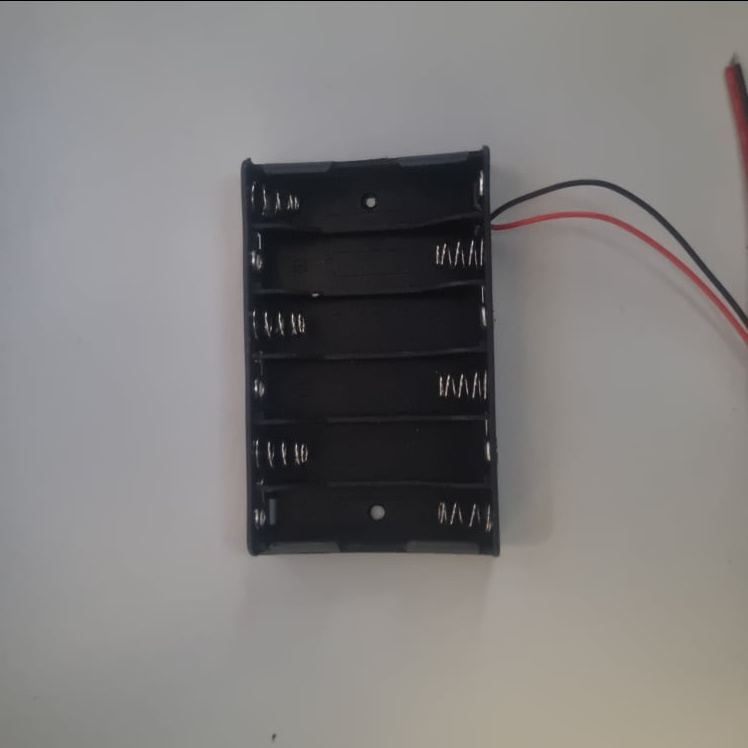BATTERY BOX: (240, 144, 498, 559)
